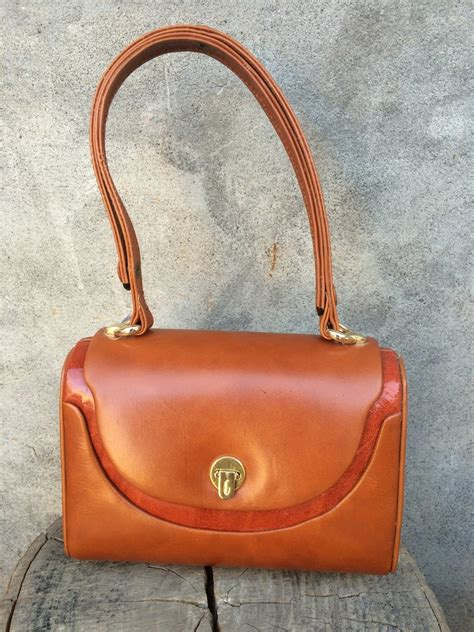cuero: (58, 23, 407, 577)
